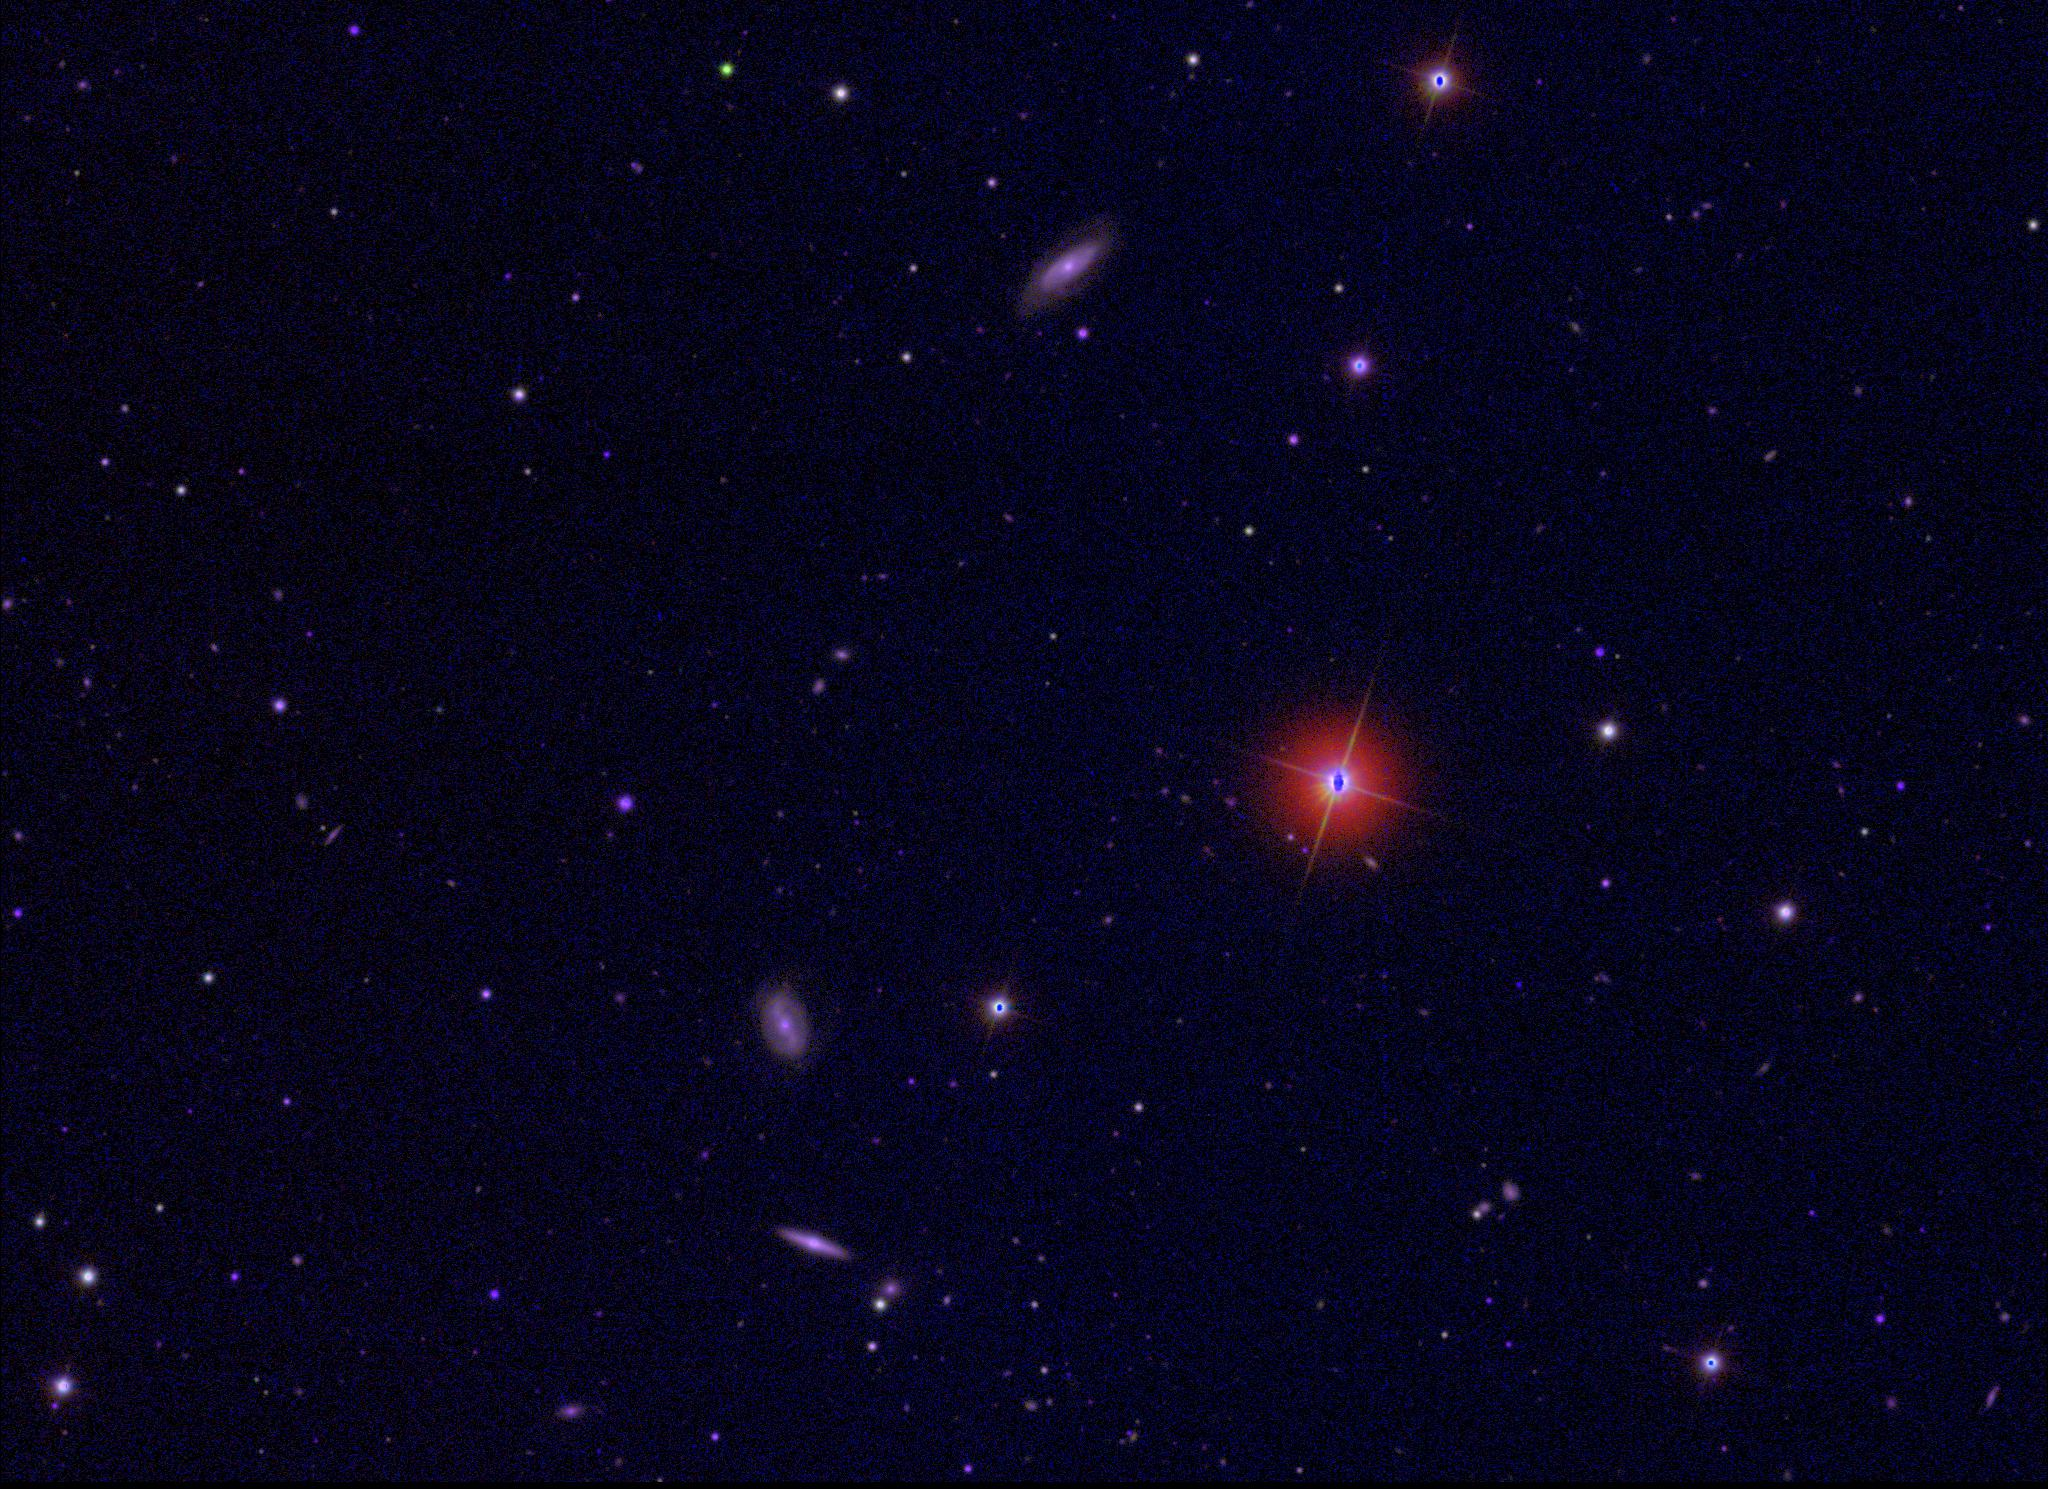L: (1511, 977, 1523, 991)
